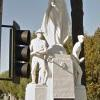Statue: (26, 9, 89, 100)
